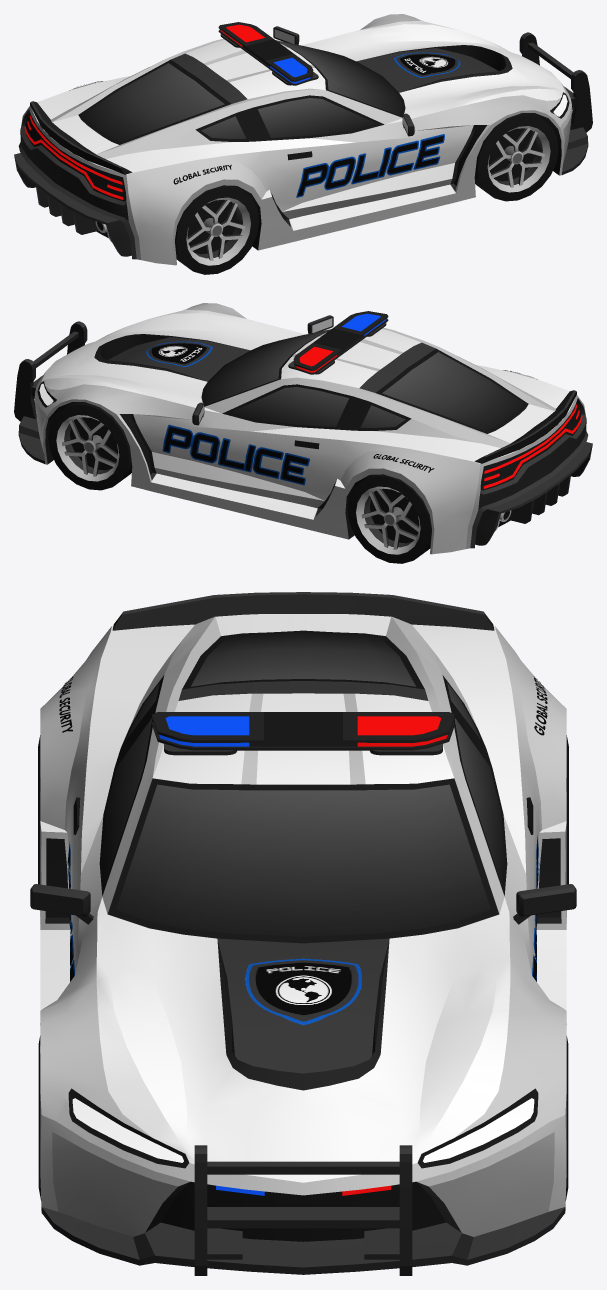
Rendered from Emergency_020.glb.
3 renders of one model, top to bottom at view 1: azimuth 30°, elevation 25°; view 2: azimuth 150°, elevation 25°; view 3: azimuth 270°, elevation 25°, orthographic. The views are drawn at different scales.
Visible parts, largest first — view 1: Emergency_020, wheel_3_Emergency_020_Wheel_2R, wheel_1_Emergency_020_Wheel_1R; view 2: Emergency_020, wheel_2_Emergency_020_Wheel_2L, wheel_0_Emergency_020_Wheel_1L; view 3: Emergency_020.
Part boxes in pixels (x1=…): Emergency_020: x1=14, y1=14, x2=592, y2=265; wheel_3_Emergency_020_Wheel_2R: x1=175, y1=185, x2=259, y2=274; wheel_1_Emergency_020_Wheel_1R: x1=474, y1=113, x2=558, y2=201; Emergency_020: x1=14, y1=303, x2=592, y2=554; wheel_2_Emergency_020_Wheel_2L: x1=347, y1=474, x2=431, y2=563; wheel_0_Emergency_020_Wheel_1L: x1=48, y1=402, x2=132, y2=490; Emergency_020: x1=30, y1=592, x2=576, y2=1275.
Size of the model in its own units: 4.77 by 1.3 by 2.18.
Materials: 3 (3 with a texture image).
